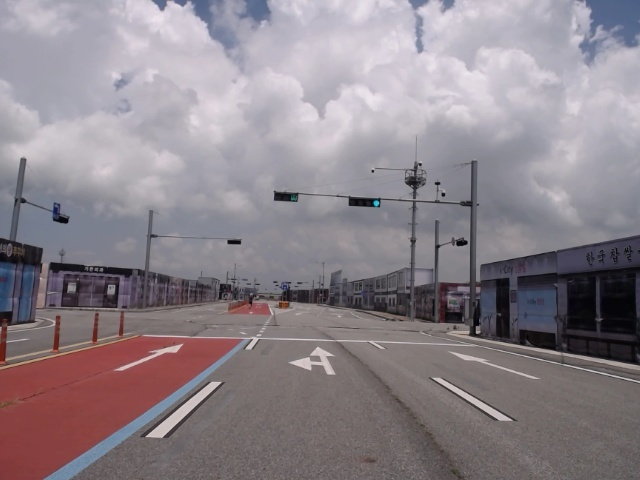straight_green_4: (349, 196, 381, 209)
